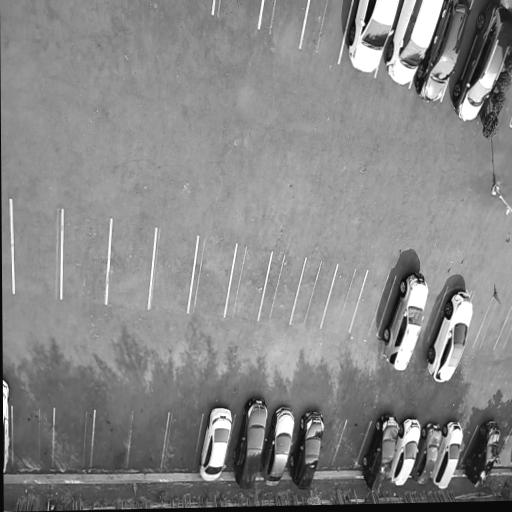Car: (446, 0, 512, 131), (408, 0, 474, 114), (378, 0, 446, 94), (376, 271, 434, 371), (422, 286, 477, 387), (341, 0, 401, 86), (228, 398, 274, 496), (357, 413, 402, 497), (287, 410, 328, 494), (258, 406, 297, 492), (197, 406, 237, 487), (461, 420, 504, 489), (386, 416, 426, 489), (430, 418, 466, 492), (408, 420, 443, 487)
Space Available: (12, 201, 62, 302), (62, 211, 111, 305), (107, 220, 156, 311), (149, 228, 198, 314), (189, 237, 237, 318), (258, 252, 307, 326), (290, 257, 339, 331), (225, 244, 272, 321), (300, 0, 353, 65), (349, 270, 396, 340), (321, 264, 368, 333), (258, 0, 307, 51), (53, 408, 94, 468), (91, 411, 134, 468), (11, 408, 54, 465), (160, 414, 203, 470), (127, 413, 169, 470), (473, 297, 512, 351), (333, 420, 373, 471), (464, 296, 494, 354), (418, 288, 449, 344), (214, 0, 266, 28), (317, 422, 347, 466), (457, 425, 478, 466)
